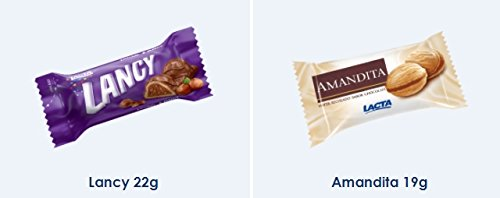19g: (404, 177, 427, 190)
22g: (134, 177, 158, 190)
Amandita: (332, 177, 398, 187)
Laney: (89, 177, 129, 190)
